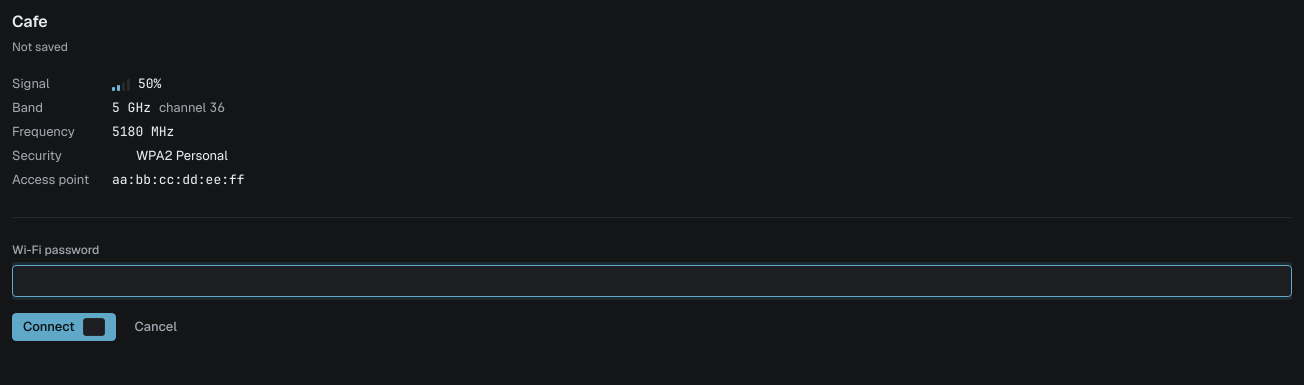
Test: connect flow › refuses to connect a secured unknown network without a password
Click the button "Connect" at (64, 327), box 12,313 -> 116,341
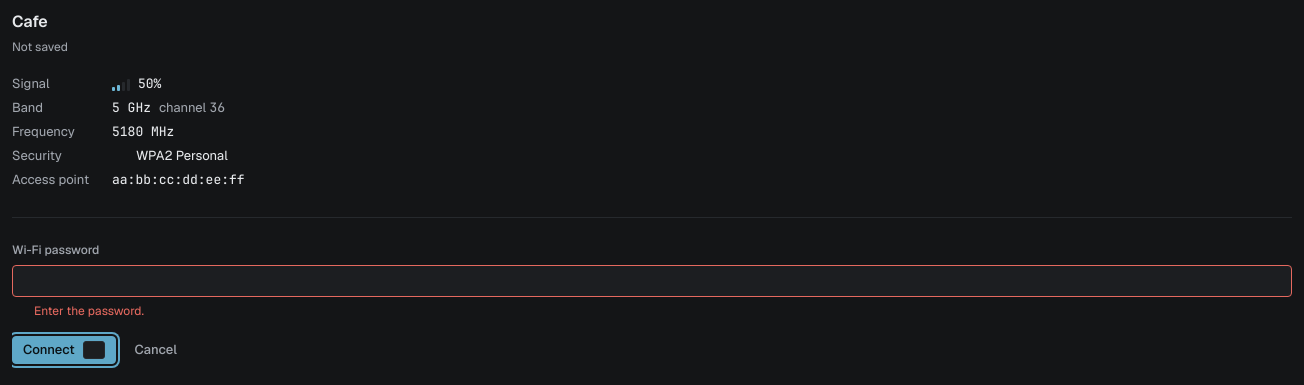
Now the message reads "Enter the password.", box 34,303 -> 144,319
